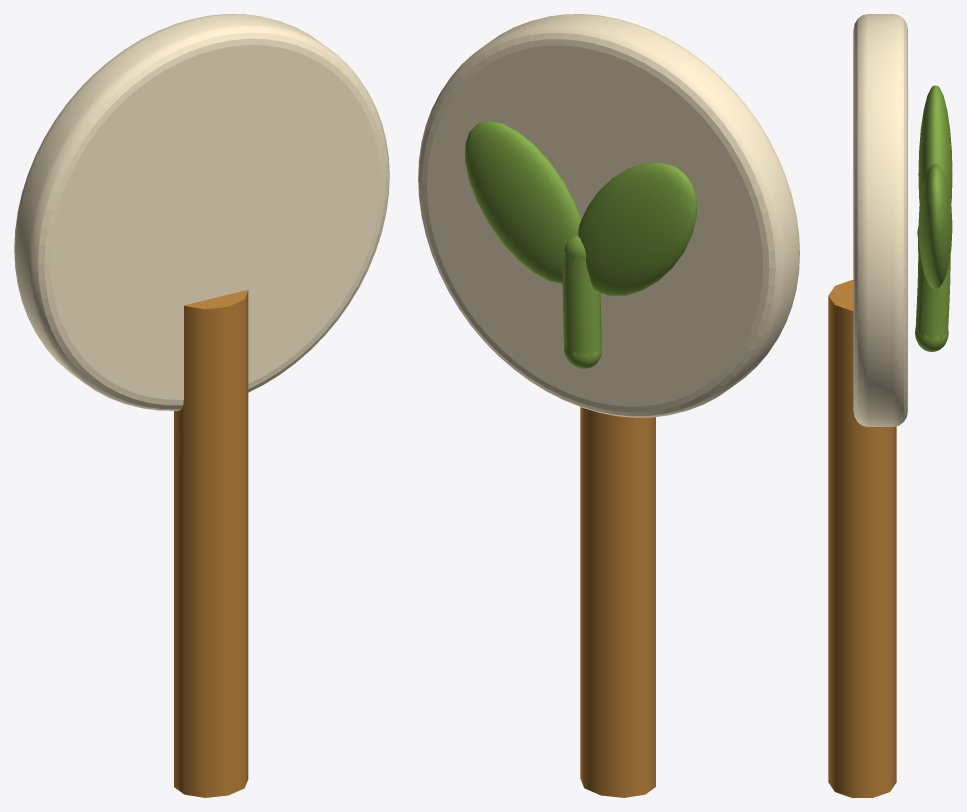
File: fertilized_marker.fbx
3 renders of one model, left to right at view 1: azimuth 30°, elevation 25°; view 2: azimuth 150°, elevation 25°; view 3: azimuth 270°, elevation 25°, orthographic. The views are drawn at different scales.
Parts seen in each view (by area): view 1: fertilized_marker; view 2: fertilized_marker; view 3: fertilized_marker.
Boxes of the visible parts, x1,y1,x2,y2 form: fertilized_marker: (14, 14, 389, 797); fertilized_marker: (418, 14, 799, 797); fertilized_marker: (828, 14, 952, 797).
Bounding box in the file's own units: 0.3 × 0.6 × 0.09.
Materials: 1 (1 with a texture image).
